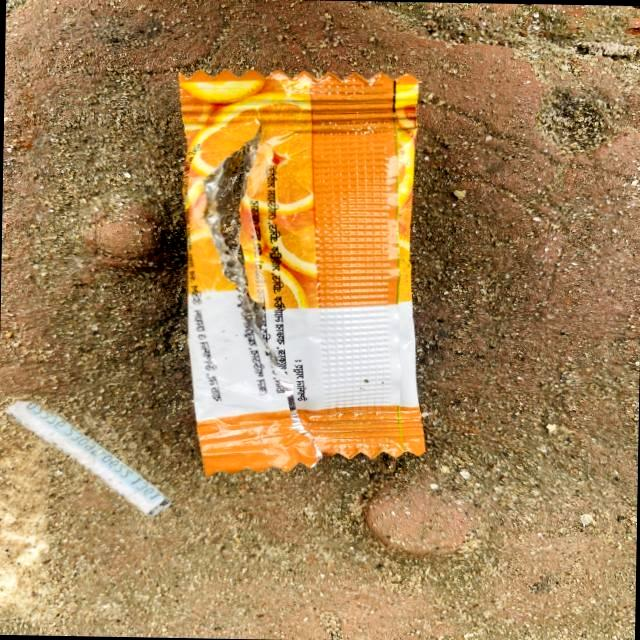packet: (177, 76, 444, 477)
